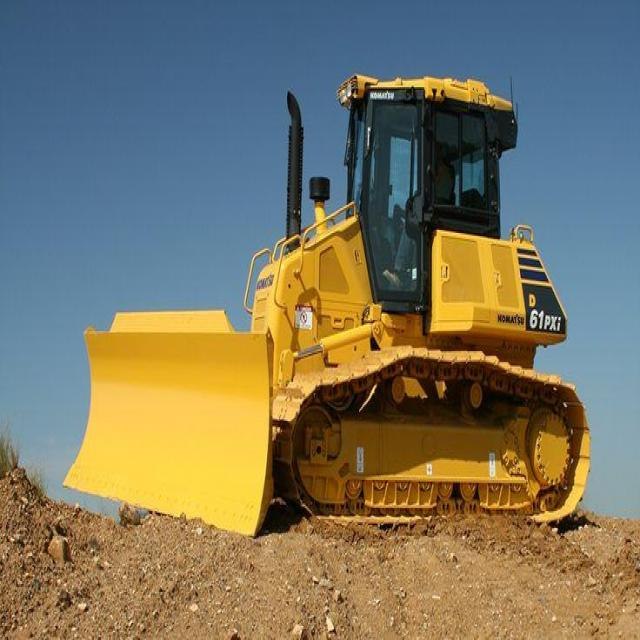Bulldozer: (74, 28, 596, 569)
